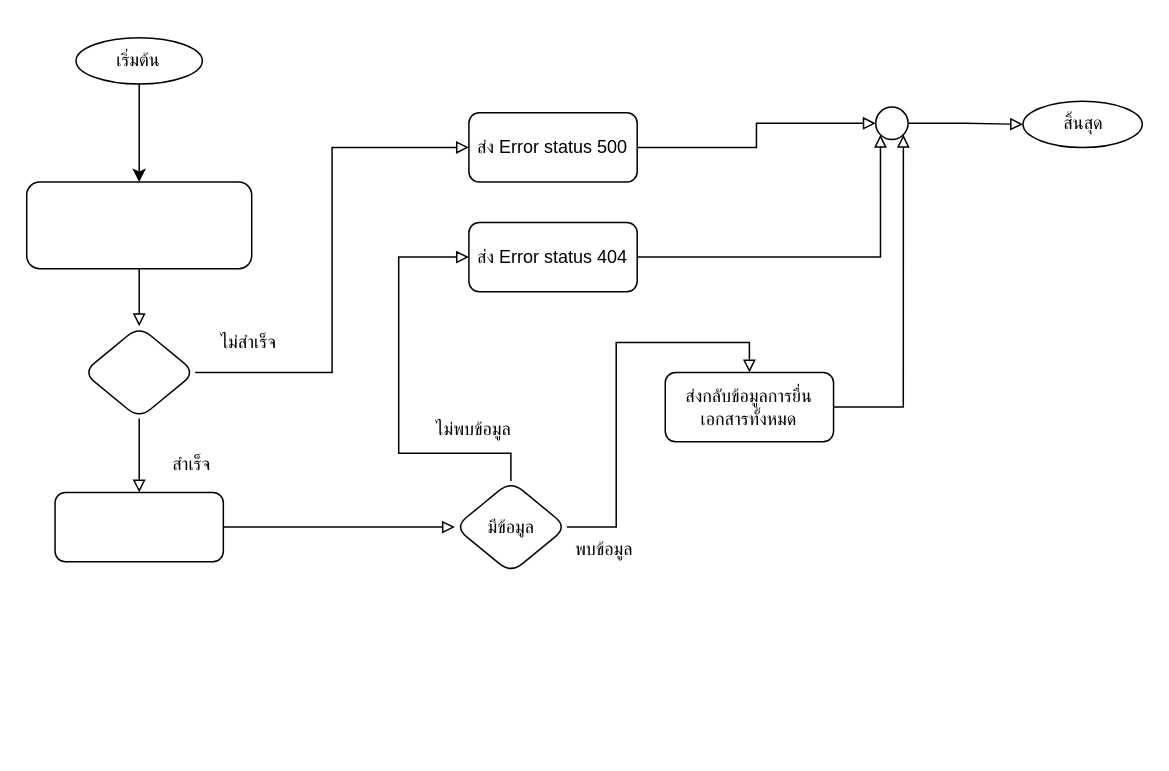
Some shapes in this 1169 by 771 pixel diagram are drawn without their labels. Here are the shapes that lost their labels. From the top down, the centre of each, then its label:
At [138,225]: "ดึงข้อมูลจาก Table Request ที่เลขบัตรประชาชนตรงกันกับ citizenId".
At [138,371]: "ดึงข้อมูล".
At [138,526]: "ตรวจสอบข้อมูล".
